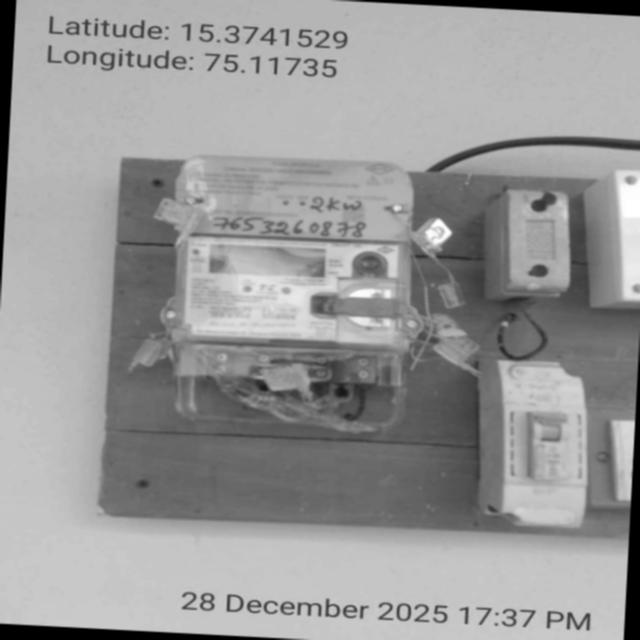meter: (172, 151, 429, 356)
